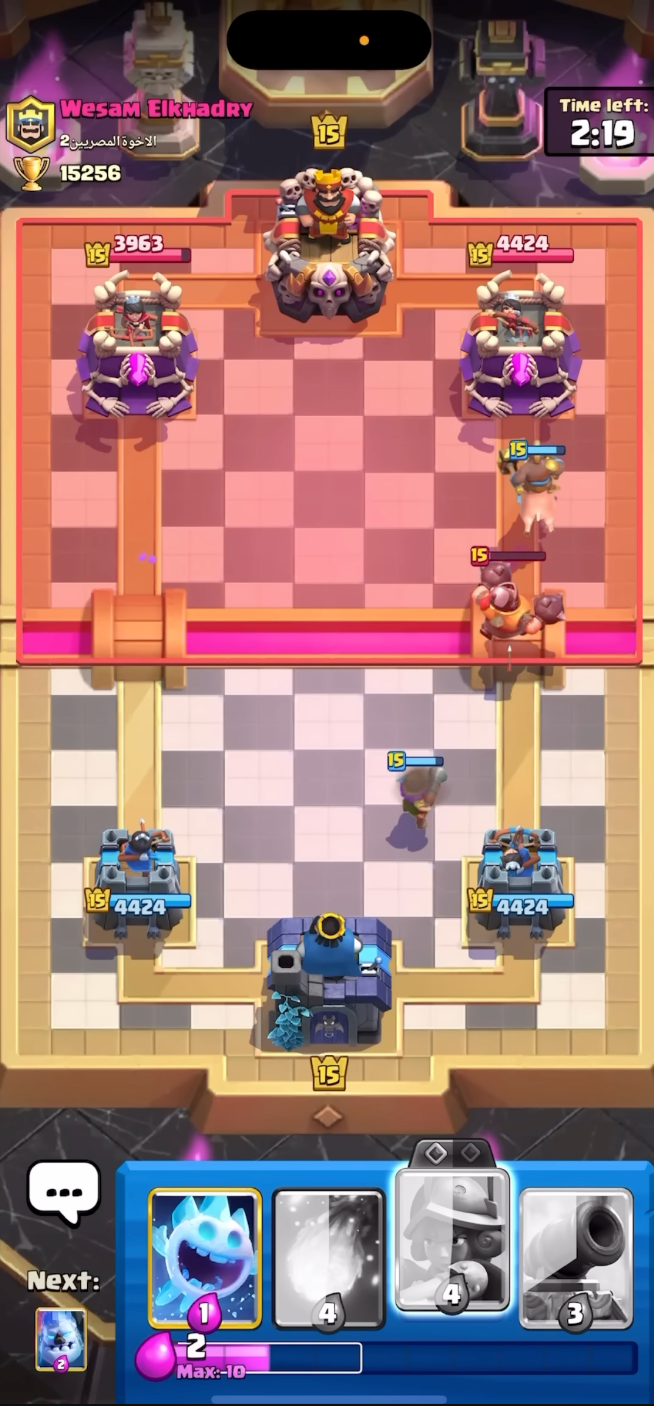hog-rider: (498, 436, 570, 540)
musketeer: (378, 744, 464, 844)
